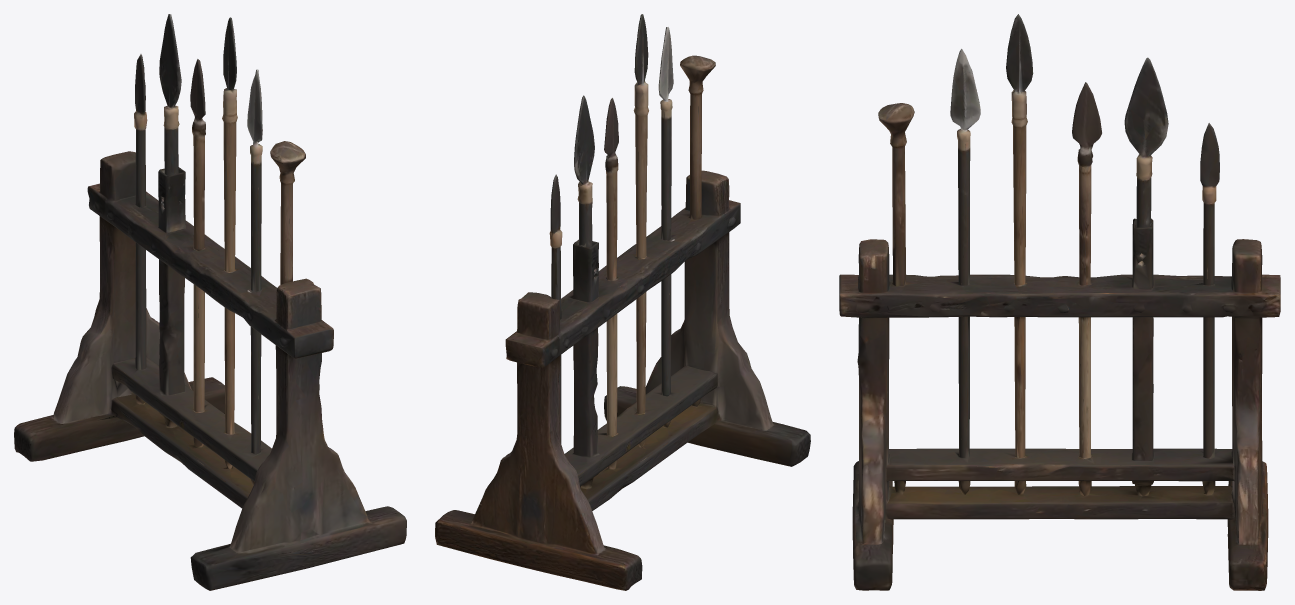
The model's file is weapon-rack.glb.
The picture shows the model from 3 angles, left to right: view 1: azimuth 30°, elevation 25°; view 2: azimuth 150°, elevation 25°; view 3: azimuth 270°, elevation 25°; orthographic projection. The views are drawn at different scales.
Parts seen in each view (by area): view 1: tripo_node_3595f2a3-abd9-4e84-aa5b-7fe3ffa0e839; view 2: tripo_node_3595f2a3-abd9-4e84-aa5b-7fe3ffa0e839; view 3: tripo_node_3595f2a3-abd9-4e84-aa5b-7fe3ffa0e839.
Boxes of the visible parts, x1=… form: tripo_node_3595f2a3-abd9-4e84-aa5b-7fe3ffa0e839: x1=14, y1=14, x2=406, y2=590; tripo_node_3595f2a3-abd9-4e84-aa5b-7fe3ffa0e839: x1=435, y1=14, x2=810, y2=590; tripo_node_3595f2a3-abd9-4e84-aa5b-7fe3ffa0e839: x1=839, y1=14, x2=1280, y2=590.
Size of the model in its own units: 0.4265 by 1 by 0.7596.
Materials: 1 (1 with a texture image).
